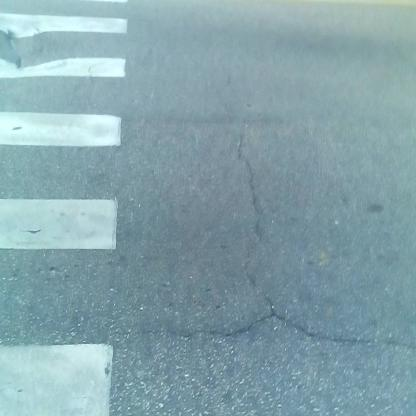crosswalk: (1, 1, 124, 392)
